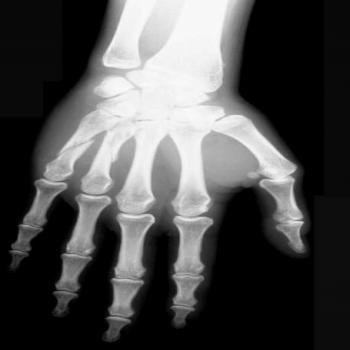Fracture: (43, 134, 95, 158)
